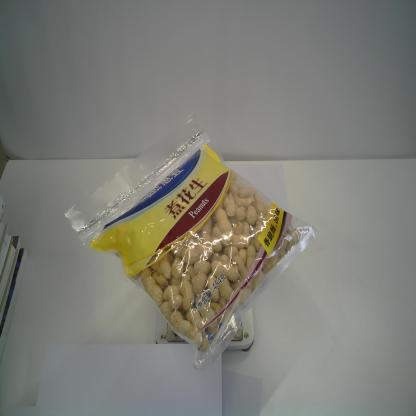Dried Food: (63, 113, 320, 372)
